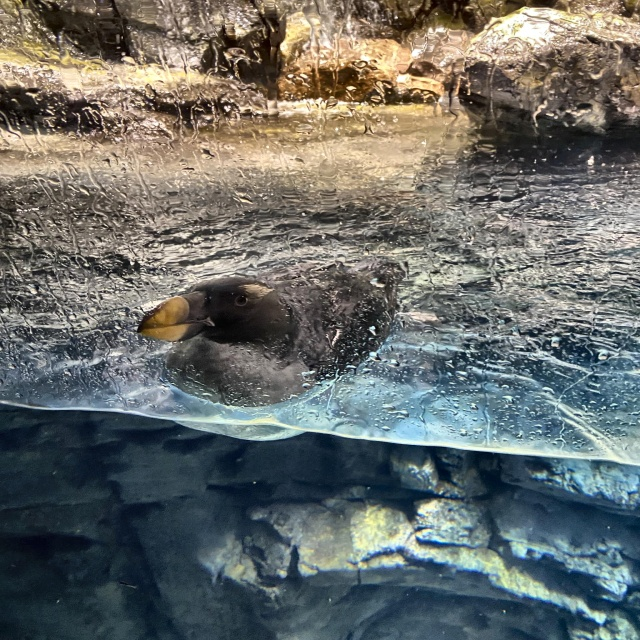puffin: (132, 242, 409, 443)
